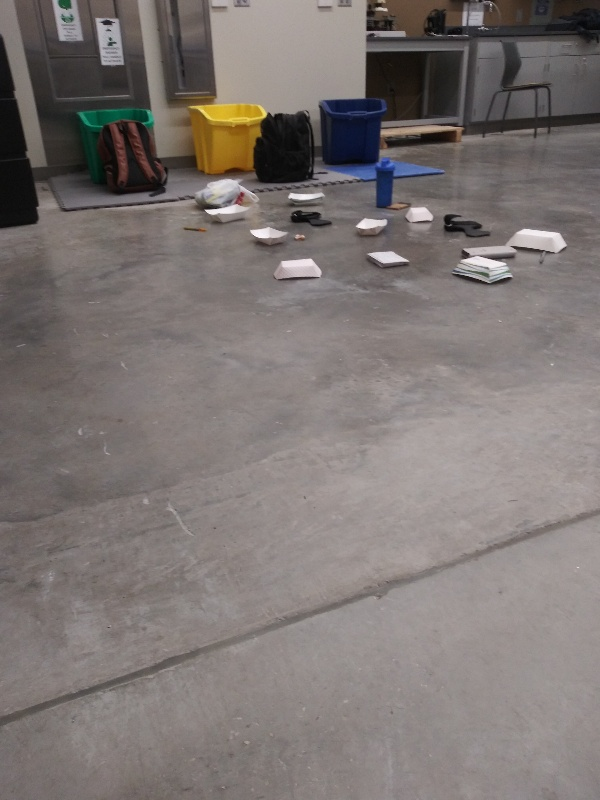plate: (443, 254, 519, 290), (505, 222, 570, 255), (202, 201, 256, 230), (271, 257, 324, 284), (245, 224, 290, 249), (281, 187, 329, 210), (352, 214, 393, 240), (400, 202, 439, 227)
